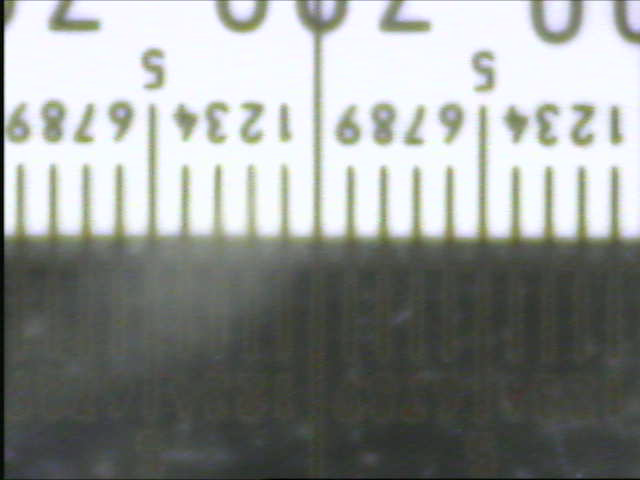line: (309, 40, 325, 236), (146, 100, 159, 235), (476, 105, 489, 238), (12, 153, 28, 233), (509, 159, 523, 237), (341, 165, 356, 237), (47, 154, 60, 233), (409, 168, 423, 236), (444, 165, 457, 237), (378, 159, 390, 237), (542, 162, 555, 232), (212, 161, 224, 235), (179, 162, 191, 235), (80, 162, 92, 234), (279, 156, 290, 234), (114, 160, 125, 238), (609, 163, 620, 235), (576, 162, 587, 232), (246, 159, 256, 234)
